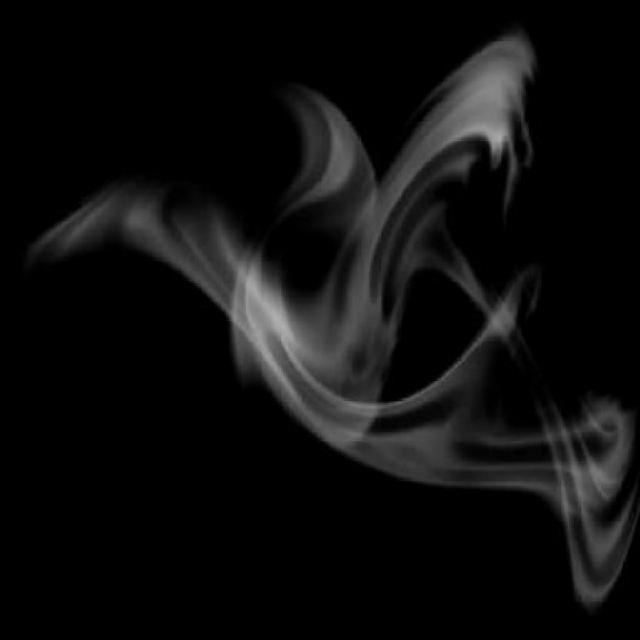Smoke: (31, 38, 640, 613)
